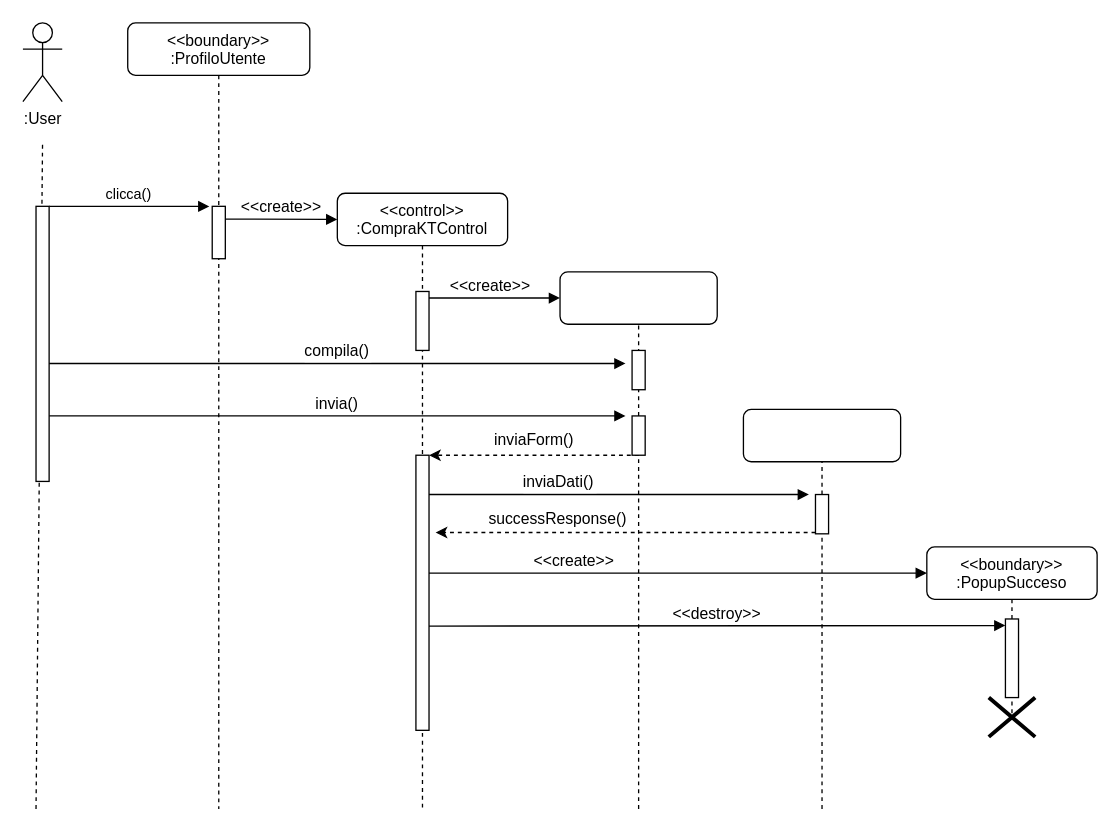
Image size: 1120x833. Some labels were removed from this diagram. Each missing label, with the centre of its shape:
"<<boundary>> :KryptoTokenForm" belongs at (x=638, y=297).
"<<entity>> :Blockchain" belongs at (x=821, y=435).
